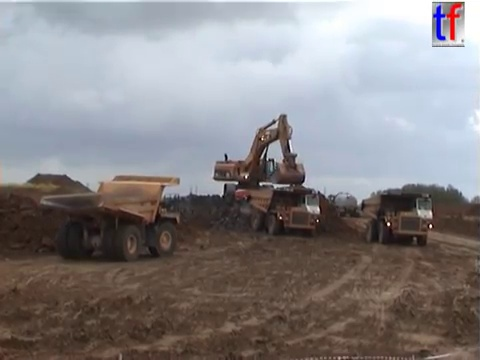excavator: (210, 111, 311, 208), (221, 182, 297, 209)
truck: (38, 173, 182, 263), (360, 191, 434, 247), (244, 186, 323, 236), (322, 191, 359, 218)
